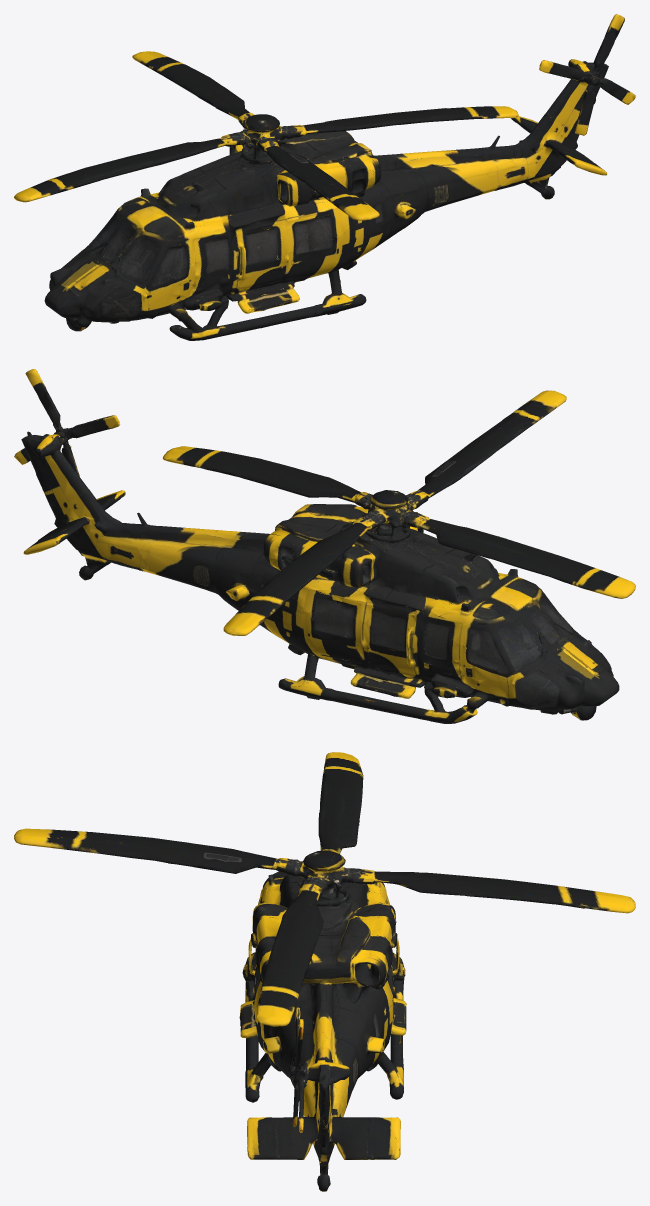
File: meshy_heli.fbx
3 renders of one model, top to bottom at view 1: azimuth 30°, elevation 25°; view 2: azimuth 150°, elevation 25°; view 3: azimuth 270°, elevation 25°, orthographic. The views are drawn at different scales.
Parts seen in each view (by area): view 1: meshy_heli, Rotor; view 2: meshy_heli, Rotor; view 3: meshy_heli, Rotor.
Part boxes in pixels (x1,y1,x2,y2): meshy_heli: (44,51,635,340); Rotor: (14,14,624,220); meshy_heli: (14,415,619,723); Rotor: (23,369,635,605); meshy_heli: (239,868,635,1191); Rotor: (14,752,584,1085).
Bounding box in the file's own units: 1422 × 472 × 1100.
